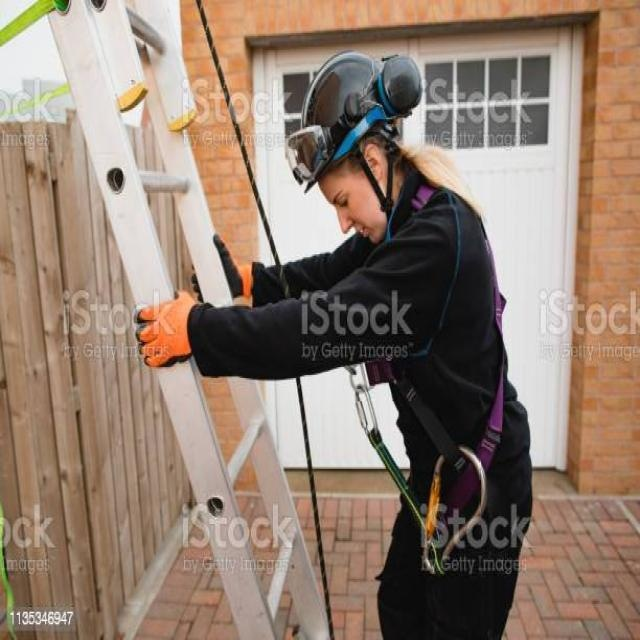Arnes_seguridad: (362, 178, 533, 586)
